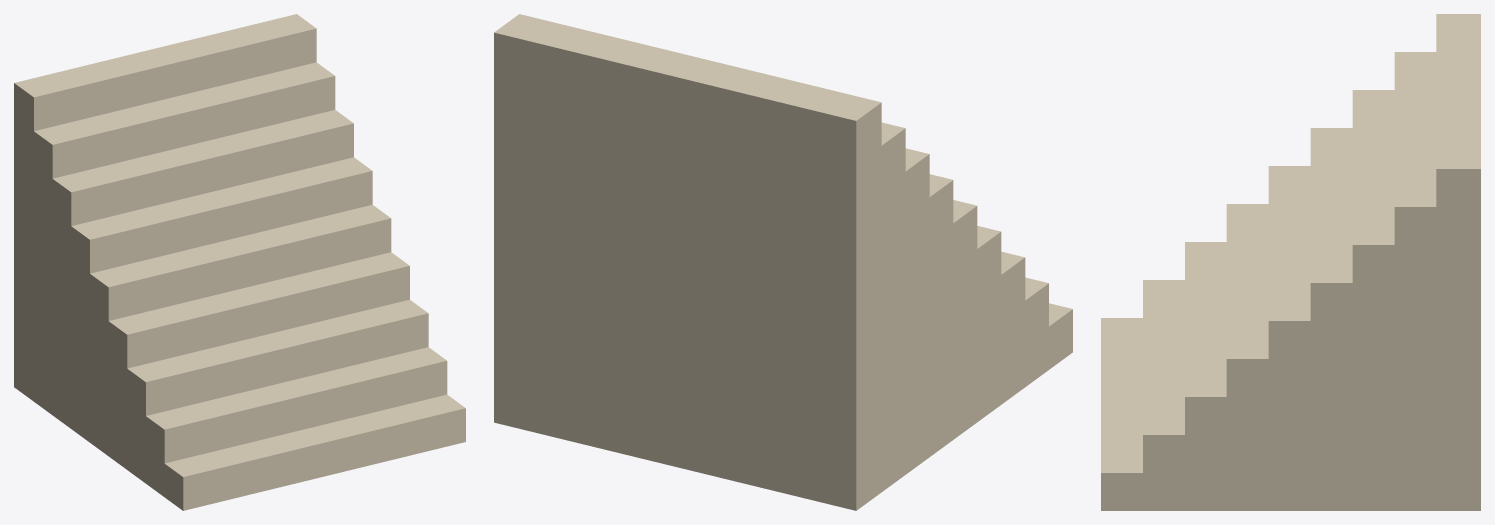
Rendered from grand_stairs.glb.
3 renders of one model, left to right at view 1: azimuth 30°, elevation 25°; view 2: azimuth 150°, elevation 25°; view 3: azimuth 270°, elevation 25°, orthographic. The views are drawn at different scales.
Parts seen in each view (by area): view 1: Stair tread.008, Stair tread.007, Stair tread.006, Stair tread.005, Stair tread.004, Stair tread.003, Stair tread.002, Stair tread.001, Stair tread; view 2: Stair tread.008, Stair tread.007, Stair tread.006, Stair tread.005, Stair tread.004, Stair tread.003, Stair tread.002, Stair tread.001, Stair tread; view 3: Stair tread.008, Stair tread.007, Stair tread.006, Stair tread.005, Stair tread.004, Stair tread.003, Stair tread.002, Stair tread.001, Stair tread.
Part boxes in pixels (x1,y1,x2,y2): Stair tread.008: [14, 14, 316, 401]; Stair tread.007: [32, 62, 335, 413]; Stair tread.006: [51, 110, 353, 427]; Stair tread.005: [70, 157, 372, 442]; Stair tread.004: [88, 204, 391, 455]; Stair tread.003: [107, 252, 409, 468]; Stair tread.002: [126, 299, 428, 482]; Stair tread.001: [144, 347, 447, 495]; Stair tread: [163, 394, 465, 510]; Stair tread.008: [494, 14, 881, 510]; Stair tread.007: [880, 122, 905, 492]; Stair tread.006: [904, 148, 929, 474]; Stair tread.005: [928, 174, 953, 458]; Stair tread.004: [952, 200, 977, 439]; Stair tread.003: [976, 226, 1001, 421]; Stair tread.002: [1001, 251, 1025, 404]; Stair tread.001: [1023, 277, 1048, 387]; Stair tread: [1049, 303, 1072, 369]; Stair tread.008: [1436, 14, 1480, 510]; Stair tread.007: [1394, 52, 1438, 510]; Stair tread.006: [1352, 90, 1396, 510]; Stair tread.005: [1310, 128, 1355, 510]; Stair tread.004: [1268, 166, 1313, 510]; Stair tread.003: [1226, 204, 1271, 510]; Stair tread.002: [1185, 242, 1229, 510]; Stair tread.001: [1143, 280, 1187, 510]; Stair tread: [1101, 318, 1145, 510].
Bounding box in the file's own units: 2.8 × 2.88 × 2.9.
